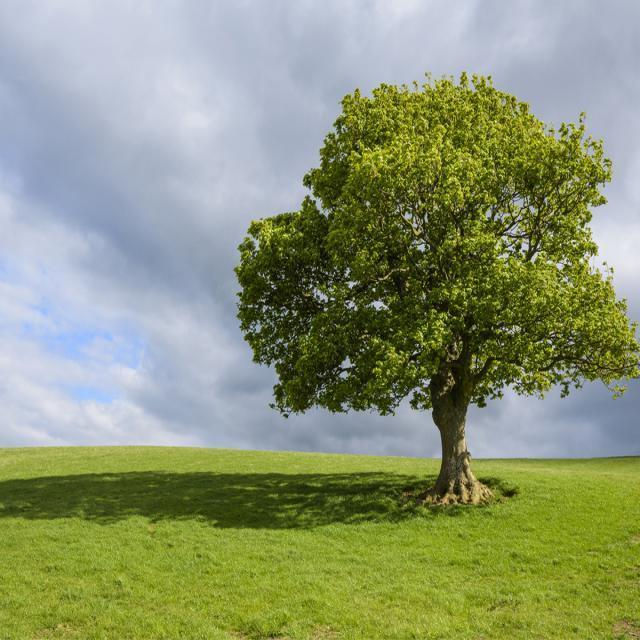tree: (234, 77, 640, 504)
